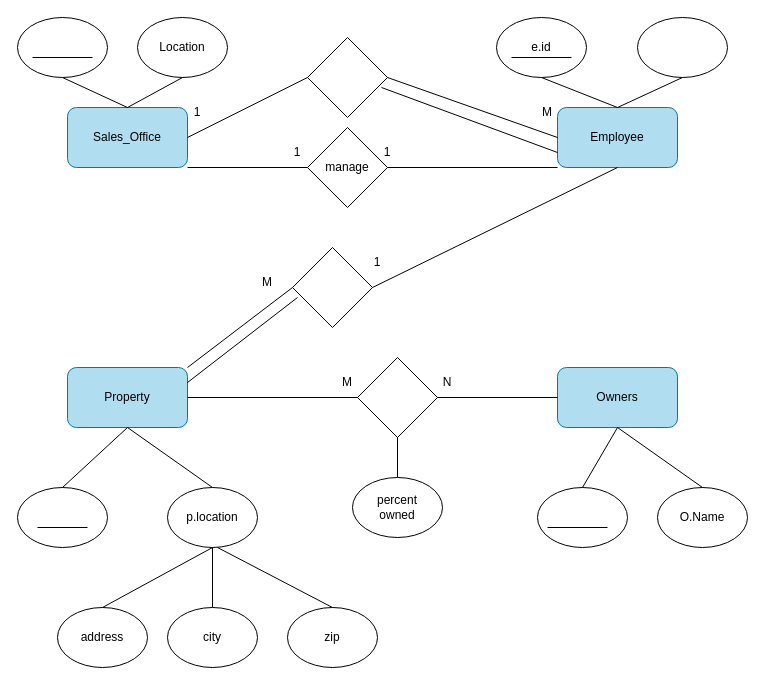
This 765x685 diagram has some shape labels left out. Here are the shapes that lost their labels. From the top down, the centre of each, then its label:
At pixel 62 47: "Number".
At pixel 682 47: "e.Name".
At pixel 347 77: "assign".
At pixel 332 287: "listed".
At pixel 397 397: "have".
At pixel 62 517: "p.id".
At pixel 582 517: "O.id".
